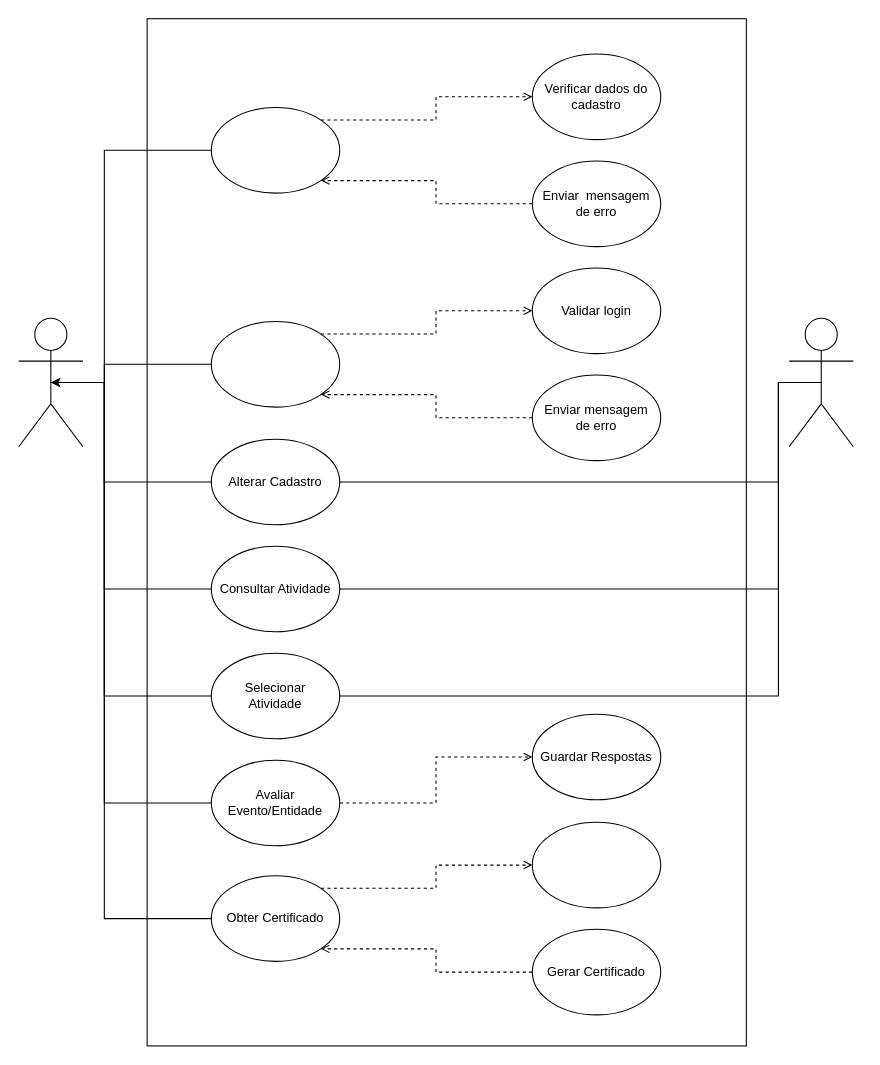
Some shapes in this 880 by 1065 pixel diagram are drawn without their labels. The shapes that lost their labels are listed below. From the top down, each one's centre as x and y in pixels, then its label:
At point 275,149: "Cadastrar Usuário".
At point 50,382: "Usuário".
At point 275,363: "Logar no Sistema".
At point 820,382: "Administrador".
At point 596,864: "Verificar Participação".
